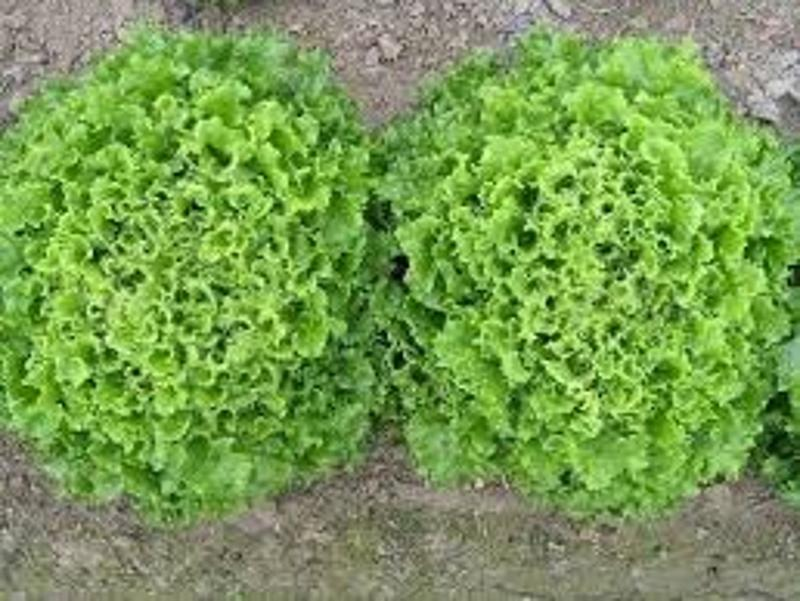green lettuce: (13, 31, 388, 521), (410, 30, 783, 518)
